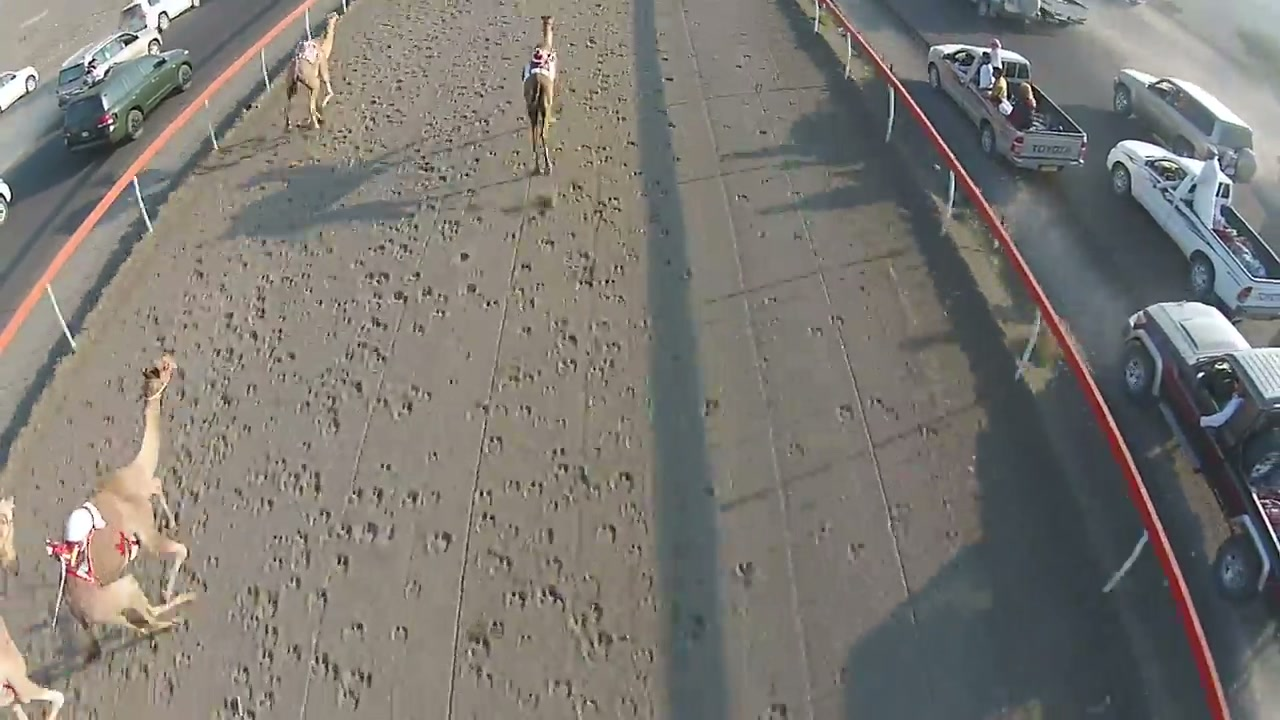animal_footprint: (244, 118, 473, 691), (168, 50, 378, 633), (448, 95, 642, 708)
